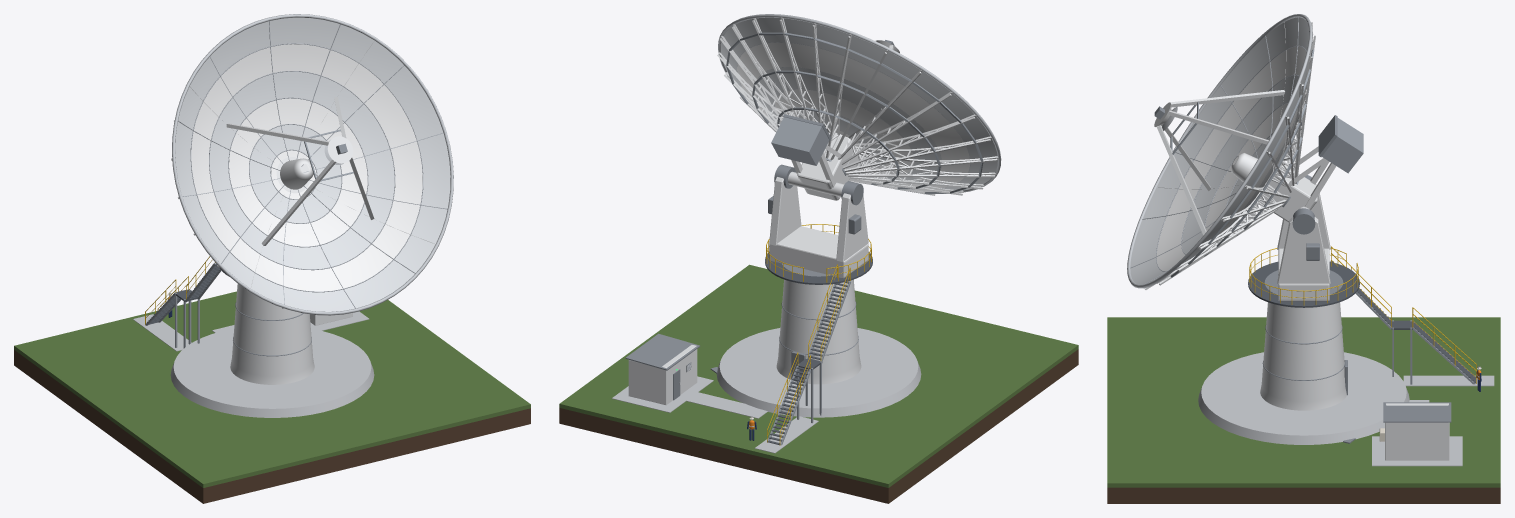
Rendered from ground-medium.glb.
The picture shows the model from 3 angles, left to right: view 1: azimuth 30°, elevation 25°; view 2: azimuth 150°, elevation 25°; view 3: azimuth 270°, elevation 25°; orthographic projection. The views are drawn at different scales.
Visible parts, largest first — view 1: site-pad, dish-surface-dish_white_alt, dish-surface-dish_white, foundation, site-soil, pedestal, dish-seams-panel_seam, dish-seams-aluminium, dish-feed-panel_white, path-stairs, dish-backstructure-panel_white, landing-posts-steel_grey; view 2: site-pad, dish-backstructure-panel_white, dish-surface-dish_white_alt, foundation, site-soil, dish-surface-dish_white, pedestal, alidade-base, dish-backstructure-steel_grey, shelter-walls, counterweight, dish-seams-aluminium (+10 smaller); view 3: site-pad, dish-surface-dish_white_alt, foundation, pedestal, dish-surface-dish_white, site-soil, dish-backstructure-panel_white, dish-feed-panel_white, shelter-walls, dish-seams-aluminium, yoke-tower-r, platform (+15 smaller).
Part boxes in pixels (bbox=[...]): site-pad: bbox=[14, 291, 530, 487]; dish-surface-dish_white_alt: bbox=[175, 17, 450, 311]; dish-surface-dish_white: bbox=[191, 44, 422, 291]; foundation: bbox=[170, 328, 374, 417]; site-soil: bbox=[14, 350, 530, 503]; pedestal: bbox=[230, 284, 314, 384]; dish-seams-panel_seam: bbox=[178, 21, 447, 308]; dish-seams-aluminium: bbox=[172, 14, 453, 315]; dish-feed-panel_white: bbox=[226, 97, 374, 245]; path-stairs: bbox=[133, 314, 191, 351]; dish-backstructure-panel_white: bbox=[171, 28, 434, 308]; landing-posts-steel_grey: bbox=[175, 289, 199, 348]; site-pad: bbox=[559, 264, 1078, 487]; dish-backstructure-panel_white: bbox=[717, 17, 998, 195]; dish-surface-dish_white_alt: bbox=[720, 17, 997, 190]; foundation: bbox=[716, 328, 921, 417]; site-soil: bbox=[559, 349, 1078, 503]; dish-surface-dish_white: bbox=[737, 42, 969, 188]; pedestal: bbox=[776, 279, 861, 384]; alidade-base: bbox=[769, 226, 868, 278]; dish-backstructure-steel_grey: bbox=[726, 32, 983, 194]; shelter-walls: bbox=[628, 345, 697, 405]; counterweight: bbox=[771, 117, 829, 165]; dish-seams-aluminium: bbox=[718, 14, 1001, 192]; site-pad: bbox=[1107, 317, 1500, 487]; dish-surface-dish_white_alt: bbox=[1130, 17, 1309, 284]; foundation: bbox=[1198, 352, 1409, 444]; pedestal: bbox=[1260, 302, 1346, 410]; dish-surface-dish_white: bbox=[1156, 46, 1306, 271]; site-soil: bbox=[1107, 487, 1500, 503]; dish-backstructure-panel_white: bbox=[1144, 22, 1315, 289]; dish-feed-panel_white: bbox=[1154, 90, 1284, 235]; shelter-walls: bbox=[1385, 403, 1449, 460]; dish-seams-aluminium: bbox=[1127, 14, 1312, 288]; yoke-tower-r: bbox=[1277, 217, 1330, 283]; platform: bbox=[1248, 261, 1359, 307].
Size of the model in its own units: 26 by 28.4 by 26.
